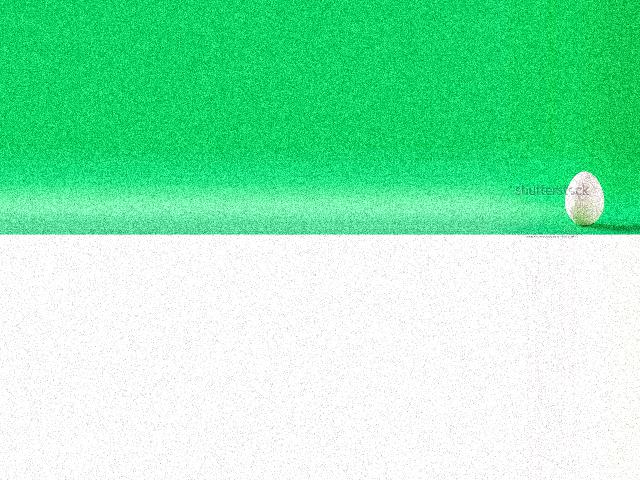egg: (565, 171, 604, 227)
